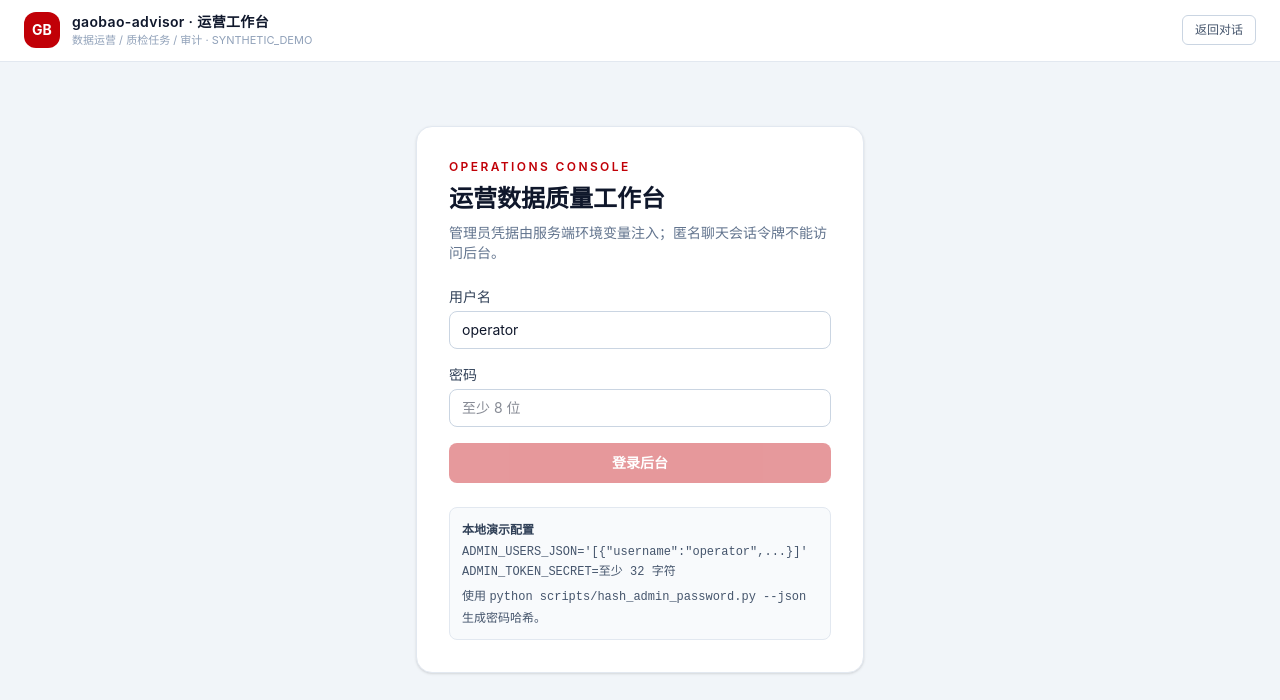
Test: AdminView data workflow › lets an admin review a succeeded job
In the field with test id "admin-username": (640, 330) x1=449 y1=310 x2=831 y2=348, type "admin"
In the password field with test id "admin-password": (640, 408) x1=449 y1=388 x2=831 y2=426, type "password123"
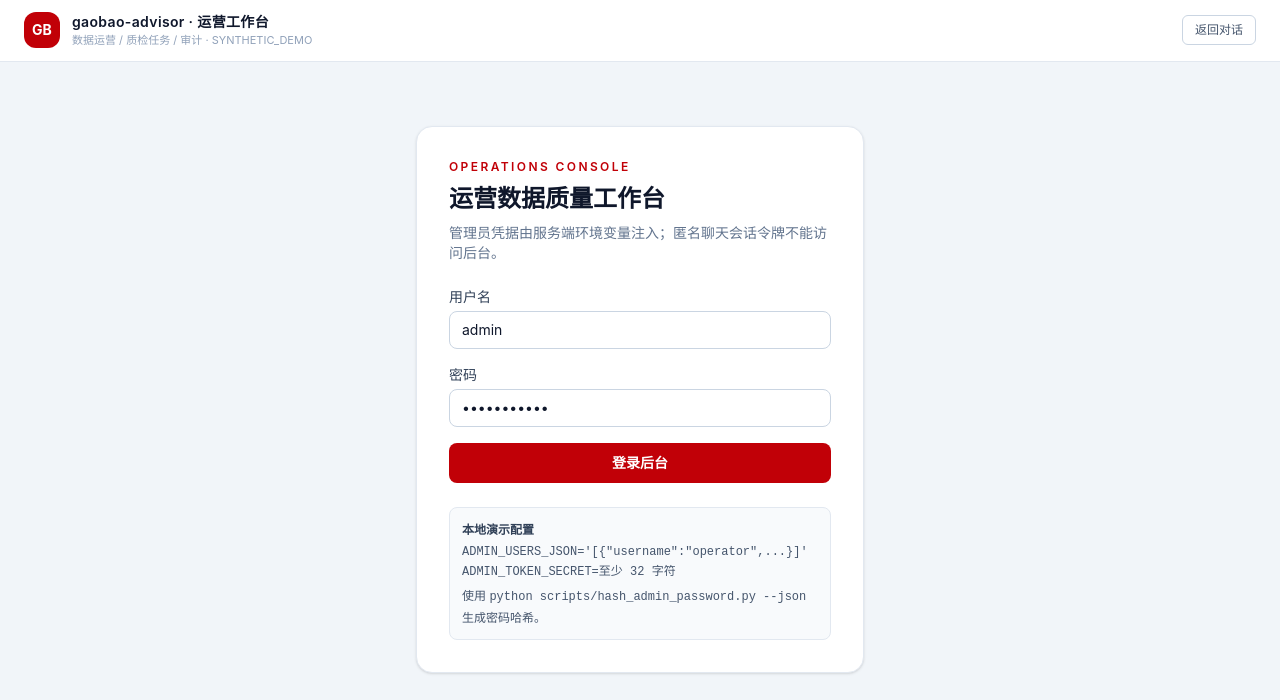
Submit the form, box x1=449 y1=286 x2=831 y2=482
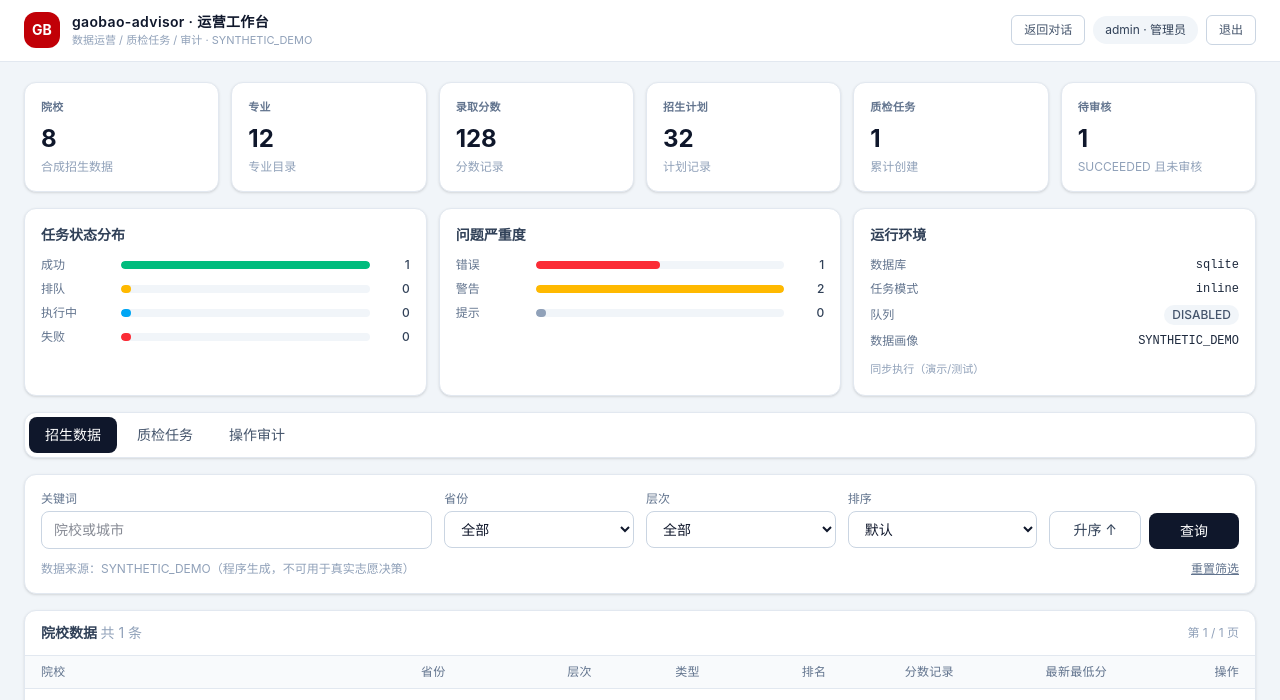
Click the tab with test id "tab-quality": click(165, 435) x1=121 y1=417 x2=209 y2=453
(page scrolled)
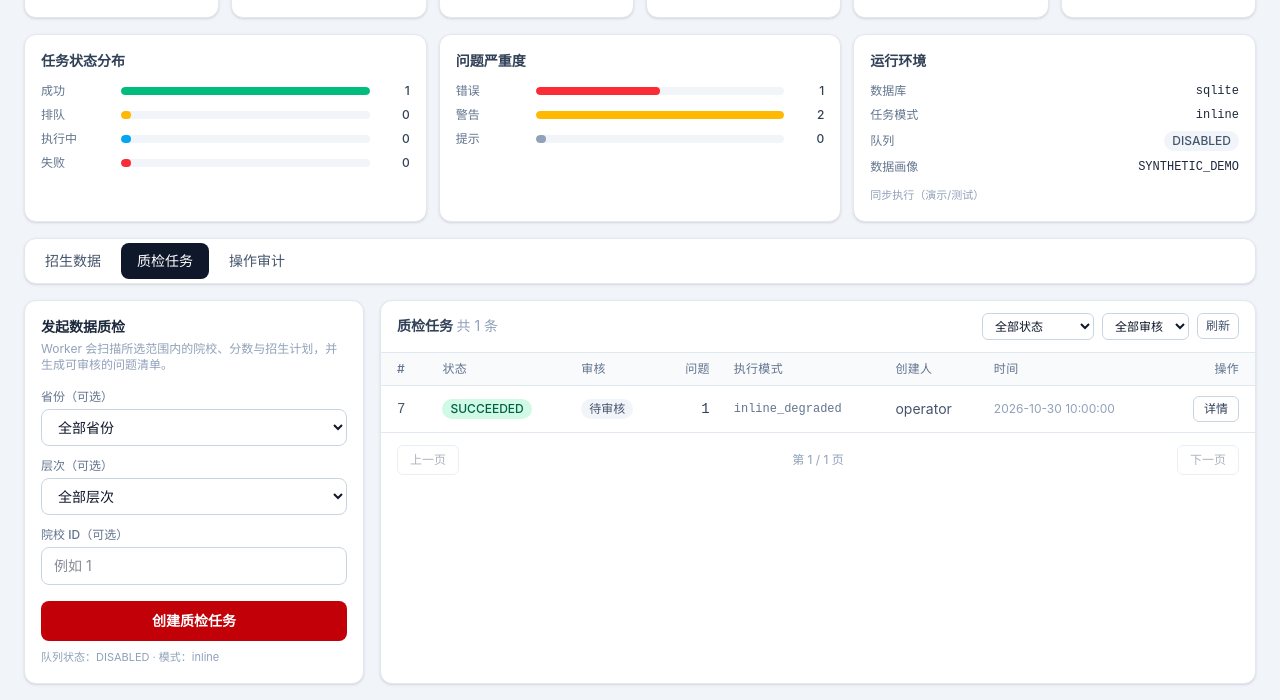
Click the button with test id "create-job": click(194, 621) x1=41 y1=601 x2=347 y2=641
(page scrolled)
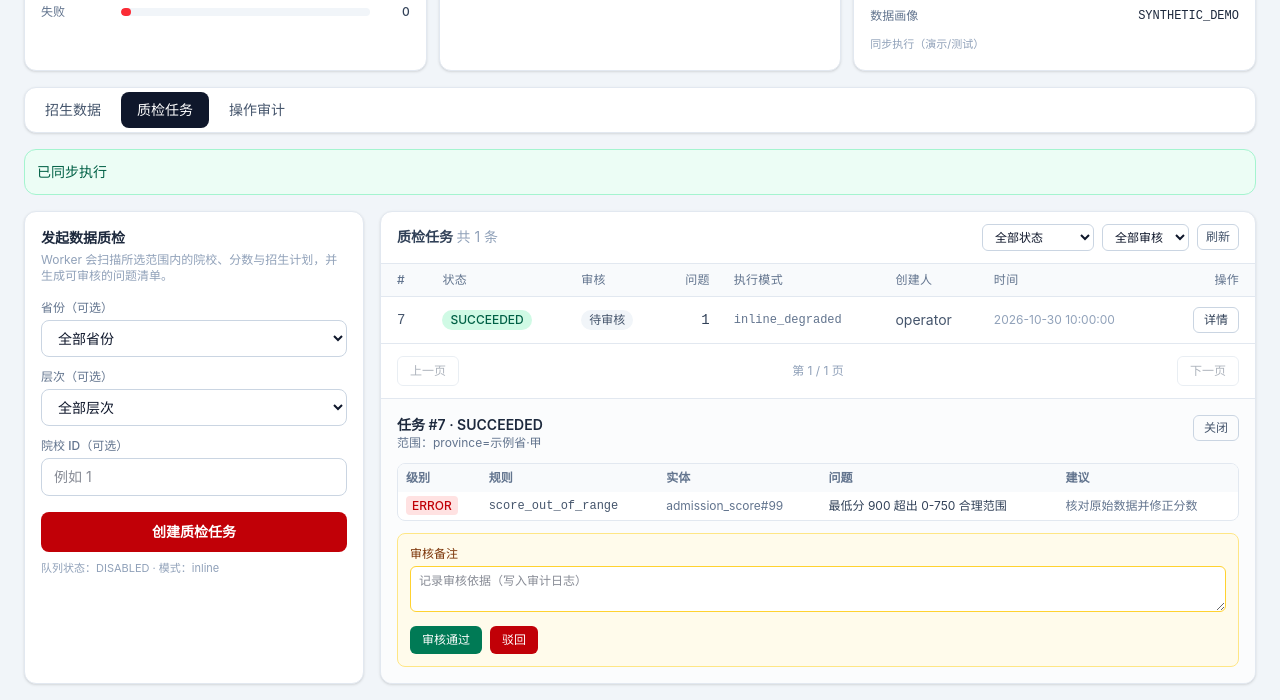
Expected: the text box with id "review-note" is shown
In the text box with id "review-note": (818, 589) x1=410 y1=566 x2=1226 y2=612, type "复核通过"
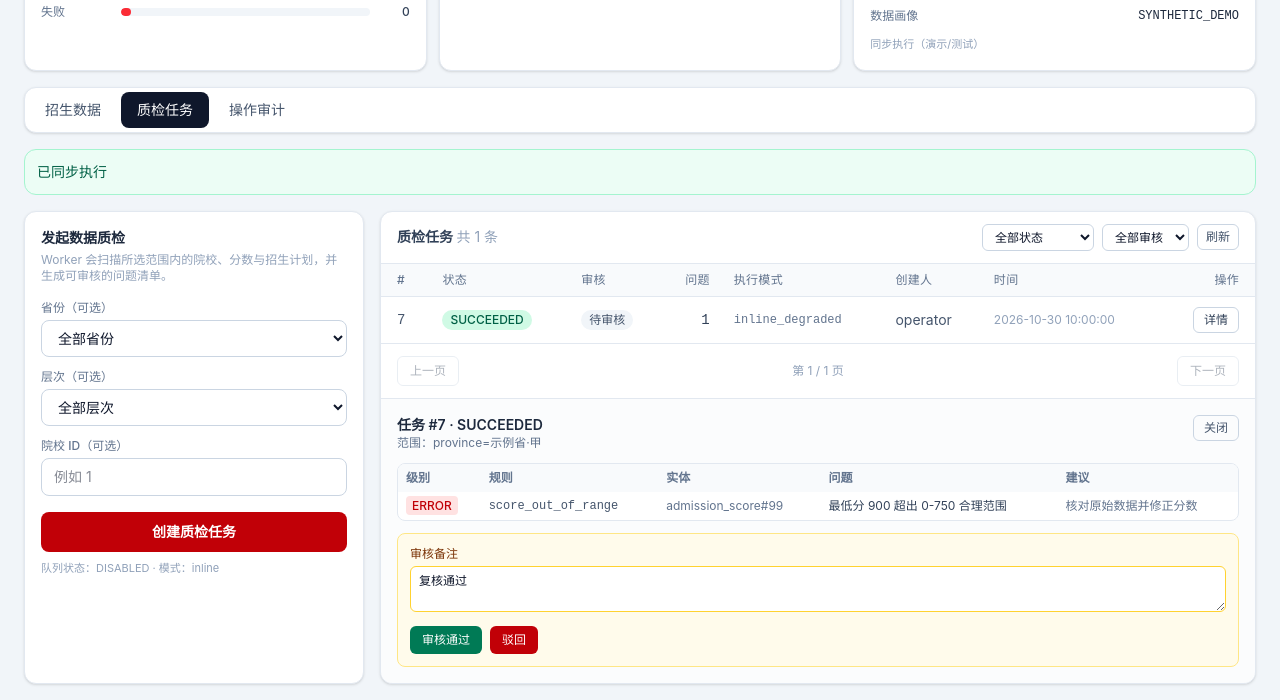
Click the button with test id "review-approve": click(446, 640) x1=410 y1=626 x2=482 y2=654
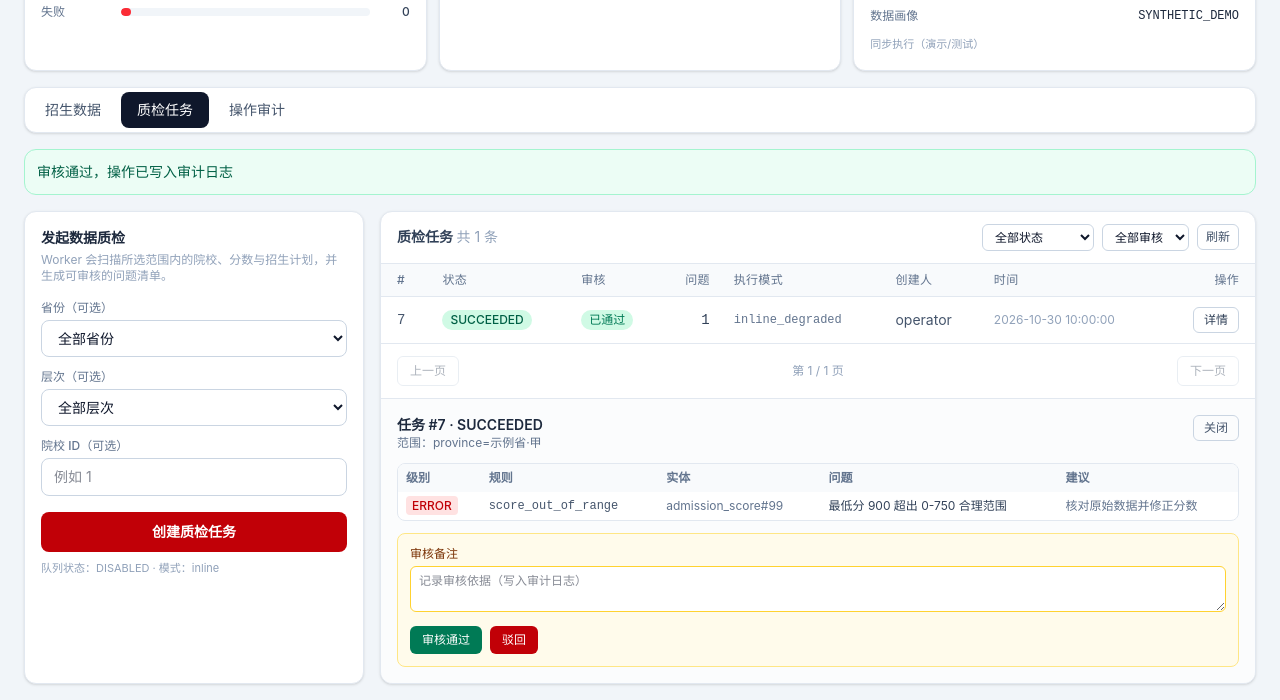
Expected: the message with test id "quality-notice" shows "审核通过", x1=37 y1=163 x2=233 y2=180
